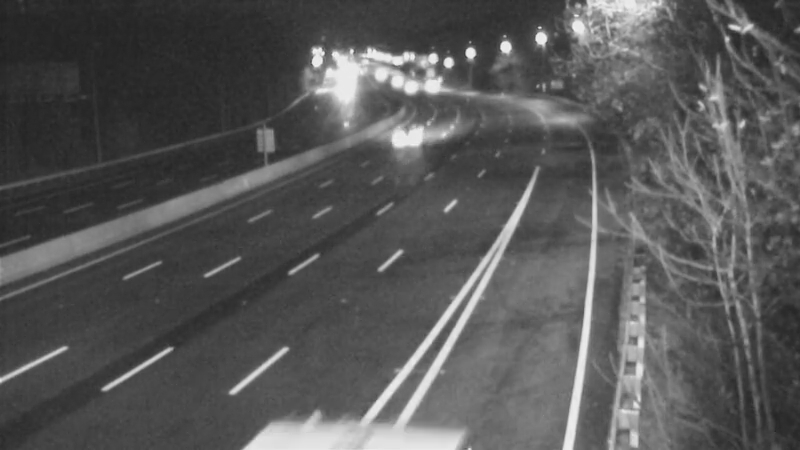vehicle: (355, 50, 405, 100), (369, 59, 419, 109), (384, 60, 434, 110), (403, 62, 453, 112), (382, 112, 432, 162), (322, 63, 372, 113)
